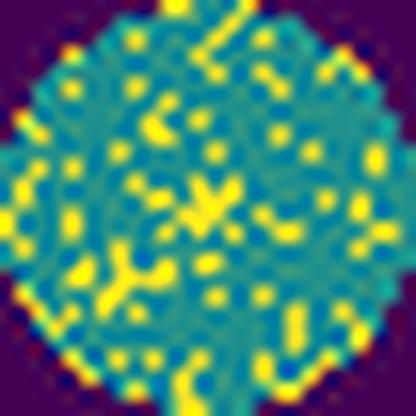Center: (140, 163, 250, 245)
